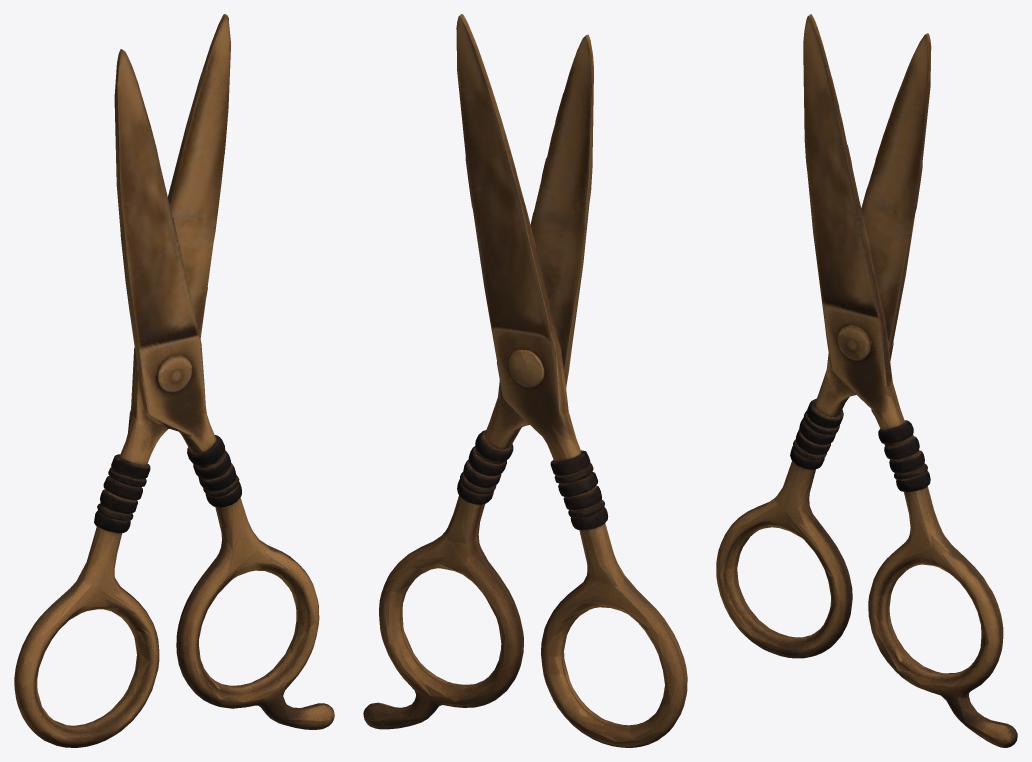
The model's file is scissors.glb.
The picture shows the model from 3 angles, left to right: view 1: azimuth 30°, elevation 25°; view 2: azimuth 150°, elevation 25°; view 3: azimuth 330°, elevation 25°; orthographic projection. The views are drawn at different scales.
Size of the model in its own units: 0.8652 by 1.9 by 0.0934.
1 material, 1 textured.
